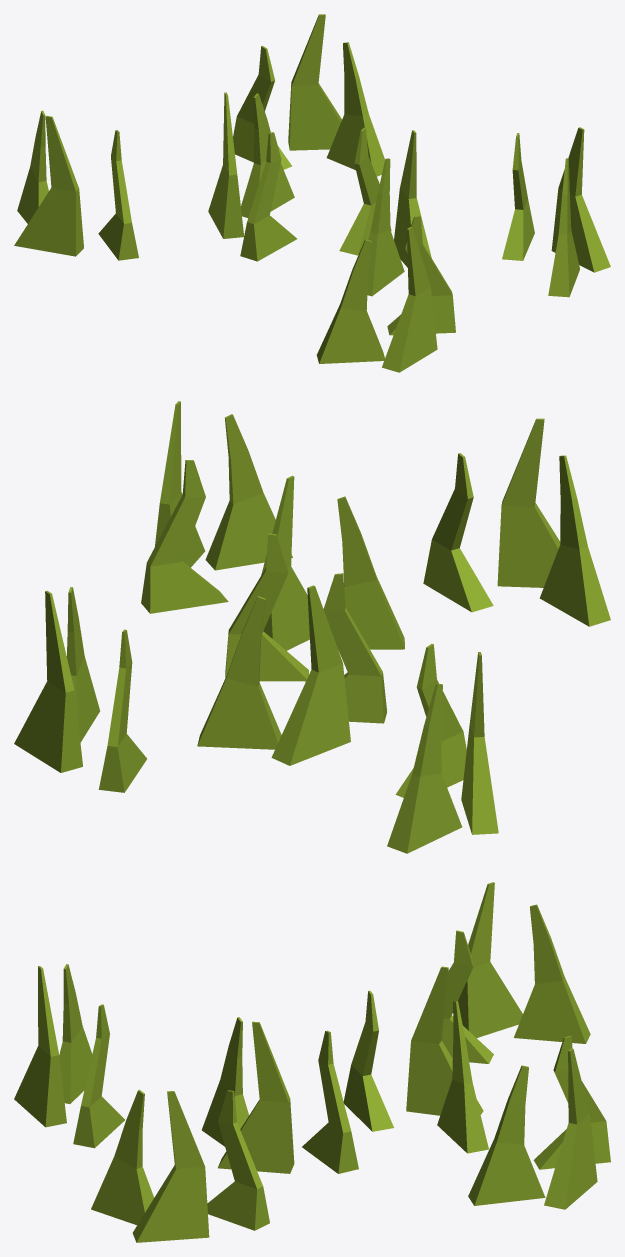
Rendered from rumput.fbx.
The picture shows the model from 3 angles, top to bottom: view 1: azimuth 30°, elevation 25°; view 2: azimuth 150°, elevation 25°; view 3: azimuth 270°, elevation 25°; orthographic projection. The views are drawn at different scales.
Visible parts, largest first — view 1: Cube.009, Cube.002, Cube.003, Cube.000, Cube.001, Cube.004; view 2: Cube.000, Cube.009, Cube.001, Cube.004, Cube.003, Cube.002; view 3: Cube.001, Cube.003, Cube.002, Cube.000, Cube.004, Cube.009.
Part boxes in pixels (x1,y1,x2,y2): Cube.009: (316,215,455,372); Cube.002: (233,14,384,176); Cube.003: (14,110,138,260); Cube.000: (208,92,297,261); Cube.001: (502,127,610,297); Cube.004: (339,127,431,296); Cube.000: (197,573,386,765); Cube.009: (423,418,610,626); Cube.001: (141,401,292,613); Cube.004: (225,475,404,681); Cube.003: (387,644,498,853); Cube.002: (14,587,146,792); Cube.001: (91,1089,269,1242); Cube.003: (441,882,590,1063); Cube.002: (468,1035,610,1209); Cube.000: (343,966,488,1153); Cube.004: (202,1017,358,1173); Cube.009: (14,964,124,1148).
Bounding box in the file's own units: 108 × 31.59 × 119.
